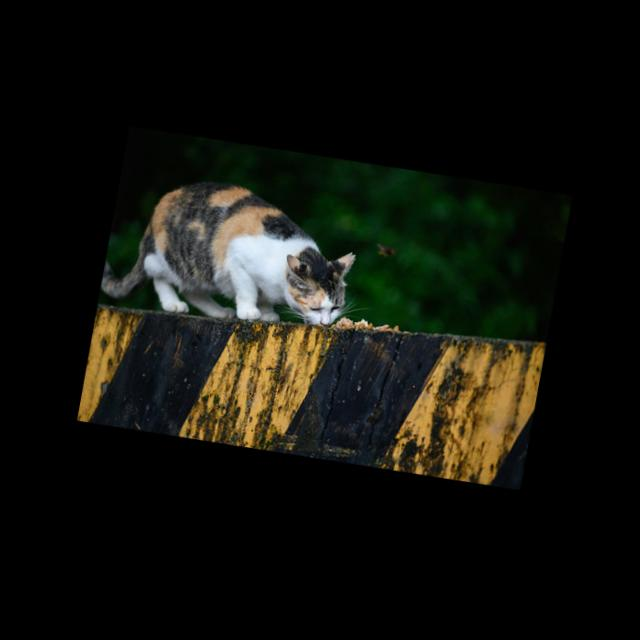animals: (96, 160, 367, 347)
